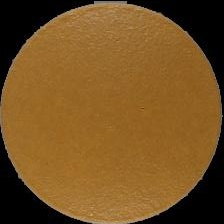16729-034: (0, 0, 224, 224)
